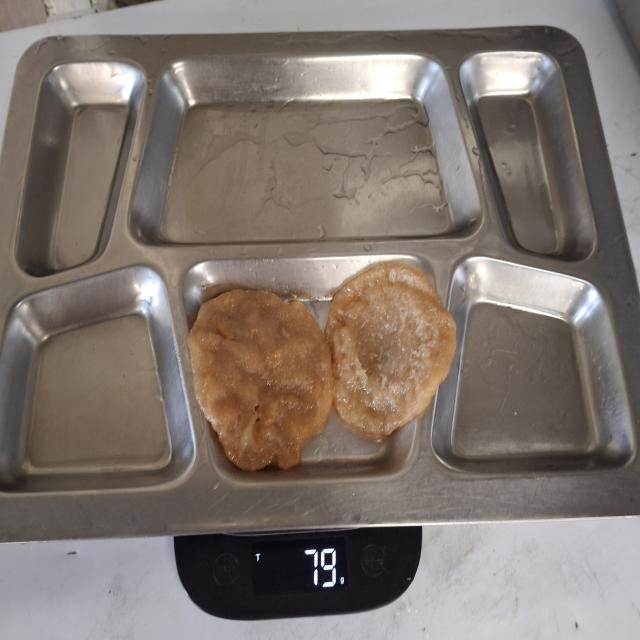Malpua: (188, 261, 456, 469)
